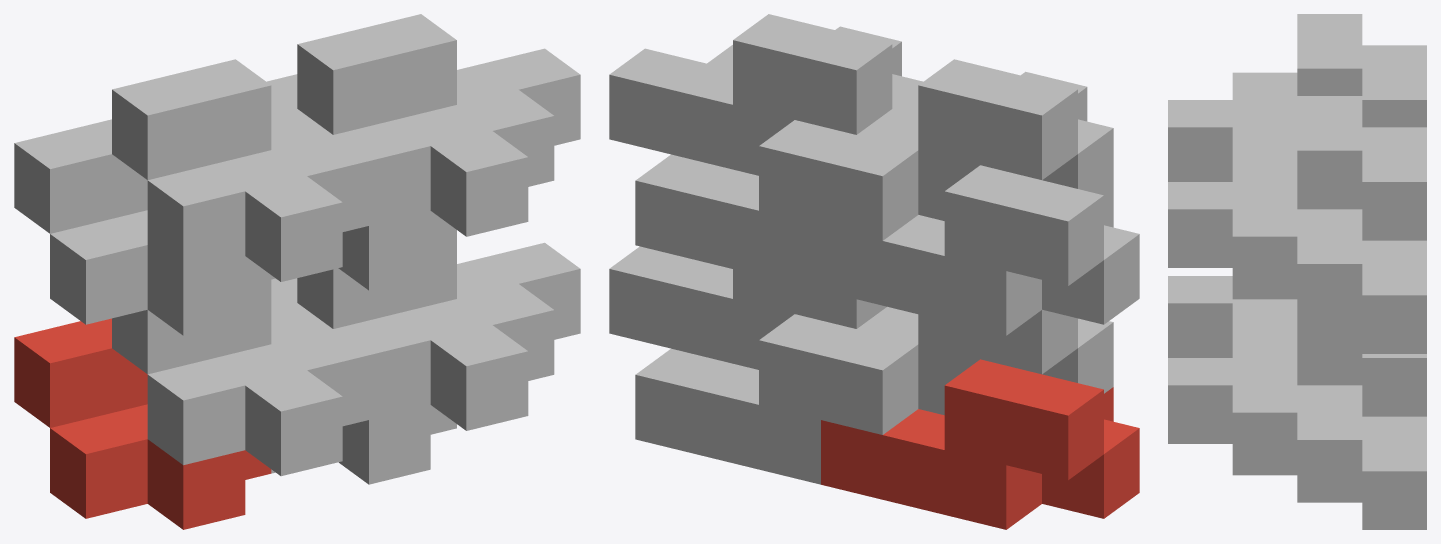
The model's file is tiling.obj.
The picture shows the model from 3 angles, left to right: view 1: azimuth 30°, elevation 25°; view 2: azimuth 150°, elevation 25°; view 3: azimuth 270°, elevation 25°; orthographic projection. The views are drawn at different scales.
Parts seen in each view (by area): view 1: copy_1_domain_8, copy_1_domain_4, copy_1_domain_6, copy_1_domain_2, copy_1_domain_3, copy_1_domain_1, copy_1_domain_7, copy_1_domain_5; view 2: copy_1_domain_3, copy_1_domain_1, copy_1_domain_7, copy_1_domain_5, copy_1_domain_8, copy_1_domain_4, copy_1_domain_6, copy_1_domain_2; view 3: copy_1_domain_8, copy_1_domain_6, copy_1_domain_4, copy_1_domain_7, copy_1_domain_5, copy_1_domain_2, copy_1_domain_3.
Part boxes in pixels (box(x1,y1,x2,y2)): copy_1_domain_8: box(297, 14, 580, 236); copy_1_domain_4: box(112, 59, 368, 281); copy_1_domain_6: box(297, 234, 580, 430); copy_1_domain_2: box(112, 279, 368, 476); copy_1_domain_3: box(14, 119, 271, 335); copy_1_domain_1: box(14, 318, 271, 529); copy_1_domain_7: box(266, 74, 456, 290); copy_1_domain_5: box(271, 278, 456, 484); copy_1_domain_3: box(821, 165, 1139, 335); copy_1_domain_1: box(821, 359, 1139, 529); copy_1_domain_7: box(635, 120, 918, 290); copy_1_domain_5: box(635, 314, 918, 484); copy_1_domain_8: box(609, 14, 922, 175); copy_1_domain_4: box(857, 59, 1113, 220); copy_1_domain_6: box(609, 246, 886, 369); copy_1_domain_2: box(857, 306, 1113, 415); copy_1_domain_8: box(1168, 96, 1362, 322); copy_1_domain_6: box(1168, 326, 1362, 498); copy_1_domain_4: box(1168, 14, 1362, 181); copy_1_domain_7: box(1232, 127, 1426, 353); copy_1_domain_5: box(1232, 354, 1426, 529); copy_1_domain_2: box(1168, 276, 1297, 357); copy_1_domain_3: box(1362, 45, 1426, 127).
Size of the model in its own units: 8 by 6 by 4.
